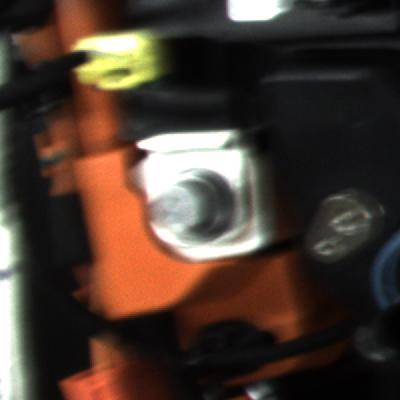nut_b: (152, 163, 240, 249)
